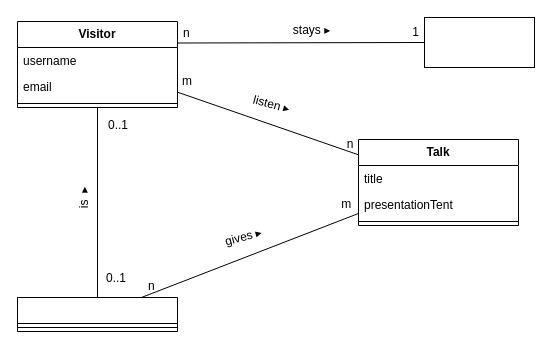
Some shapes in this 552 by 349 pixel diagram are drawn without their labels. Each missing label, with the centre of its shape:
"Speaker" belongs at (97,314).
"Village" belongs at (479,42).
